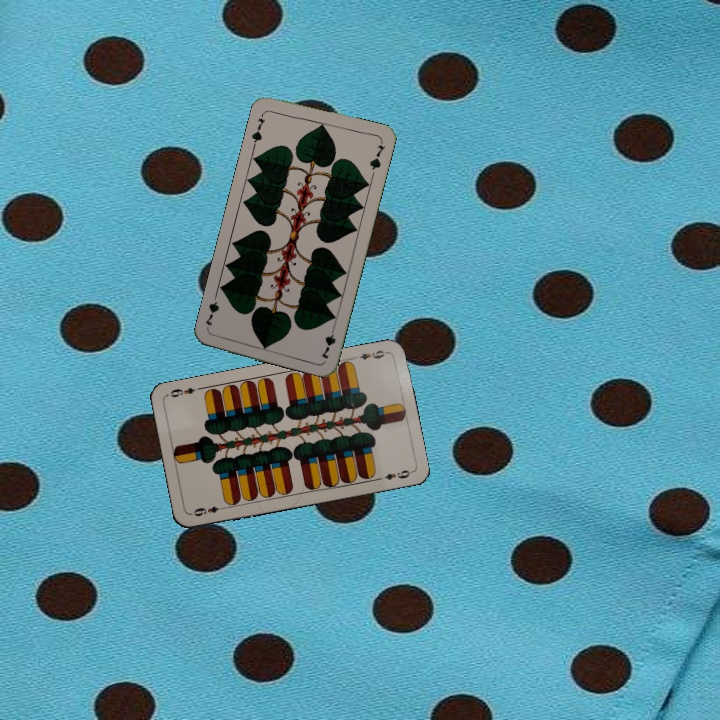E9: (188, 502, 228, 519), (350, 346, 390, 362)
G7: (317, 321, 338, 361), (247, 109, 268, 148)
